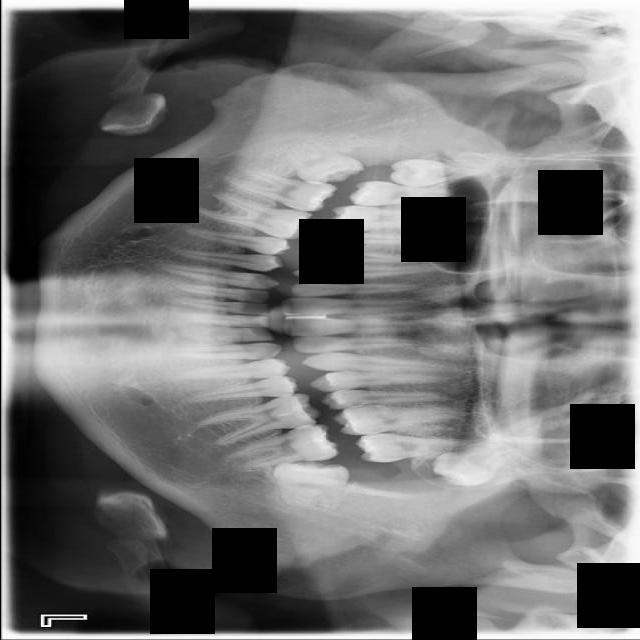3M ESPE Implant: (388, 158, 490, 187)
52: (285, 414, 342, 472), (281, 178, 337, 215), (267, 392, 321, 430)
73: (64, 582, 72, 592)
BioHorizons Implant: (354, 432, 470, 465)
BioLife Implant: (429, 437, 522, 494)
Biomet 3i Implant: (267, 453, 350, 515)
Blue Sky Bio Implant: (223, 421, 340, 473)
Caries: (348, 178, 456, 207)
Implant: (223, 165, 338, 217)
Keystone Dental Implant: (269, 127, 368, 202)
